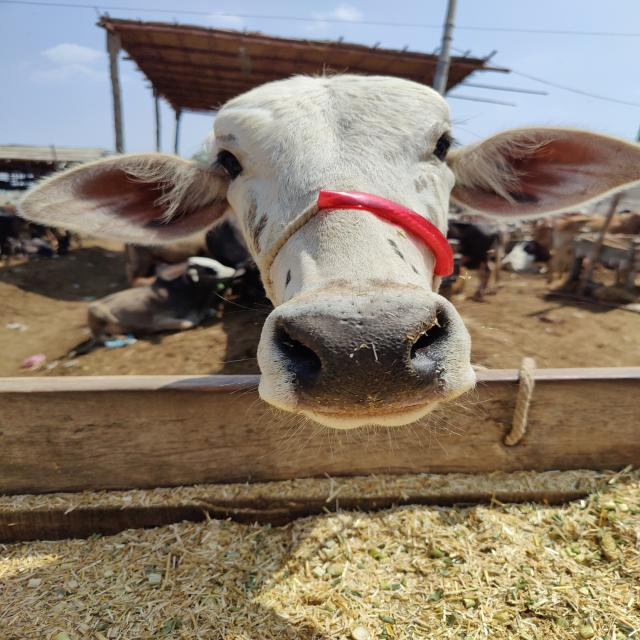muzzles: (259, 293, 468, 421)
